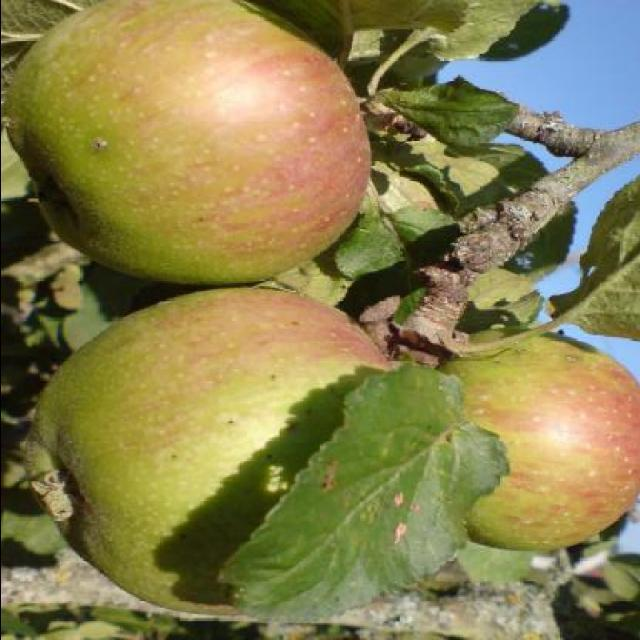Apple pie: (16, 285, 393, 617), (28, 0, 377, 289), (436, 326, 640, 552)
